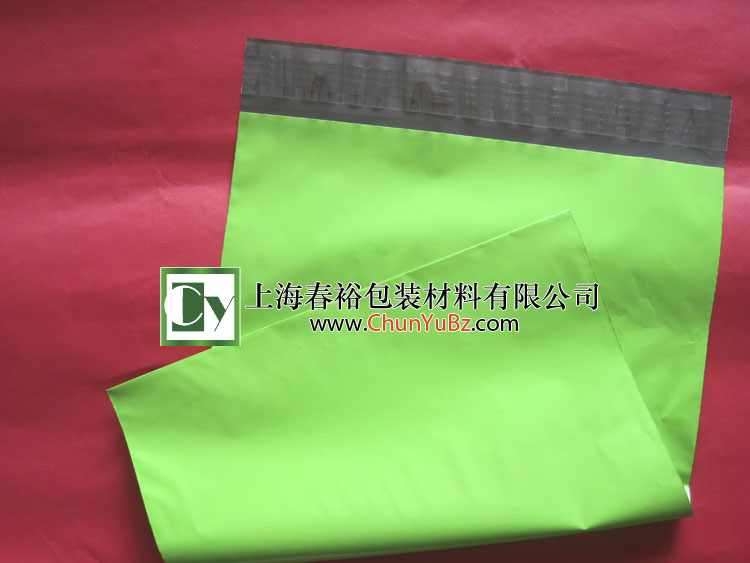Parcel: (109, 40, 729, 563)
